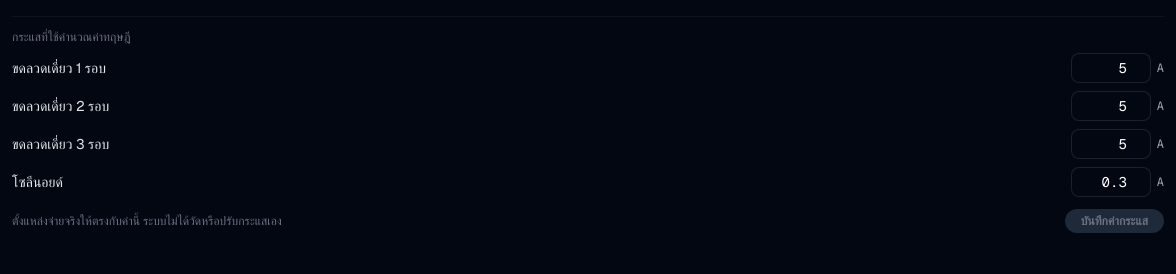
CurrentSettings › says so when the server cannot be reached
This screenshot has width=1176, height=274.
Replace the text in the number field labelled "โซลีนอยด์" with "0.45" at (1111, 182), box top-left (1071, 167), bottom-right (1151, 197)
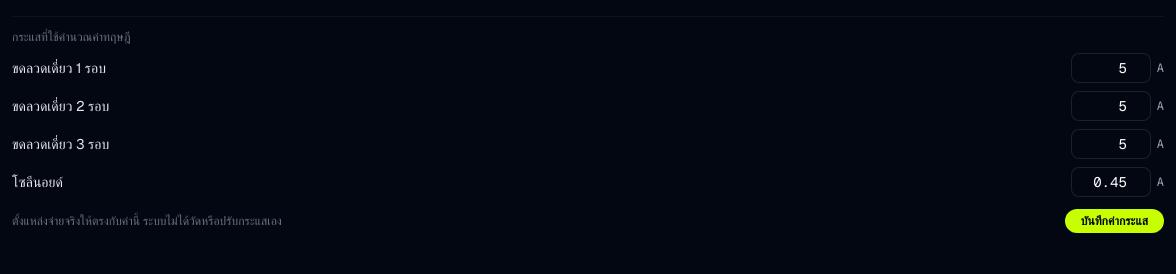
Click the button "บันทึกค่ากระแส" at (1114, 221), box top-left (1065, 209), bottom-right (1164, 233)
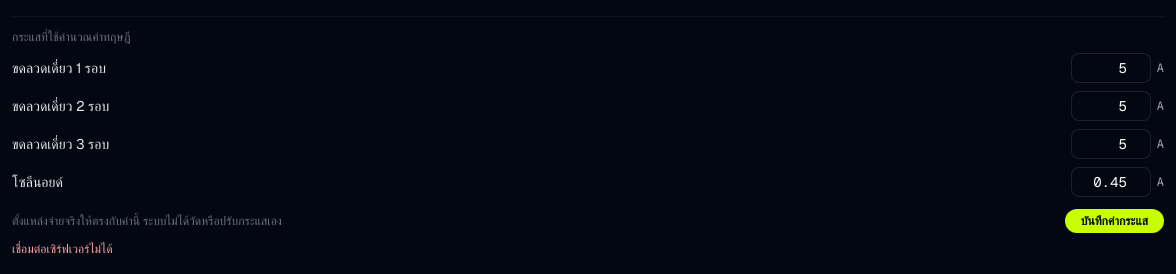
Result: the message reads "เชื่อมต่อเซิร์ฟเวอร์ไม่ได้" at top-left (12, 241), bottom-right (112, 257)
